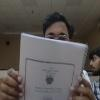notebook: (17, 31, 88, 99)
